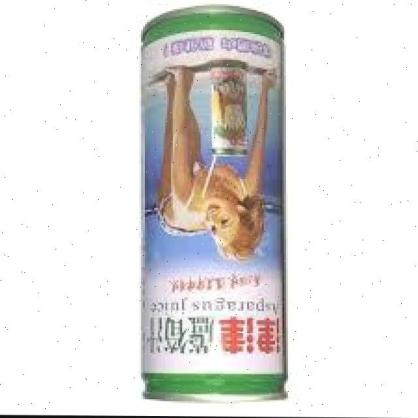can: (140, 5, 293, 406)
